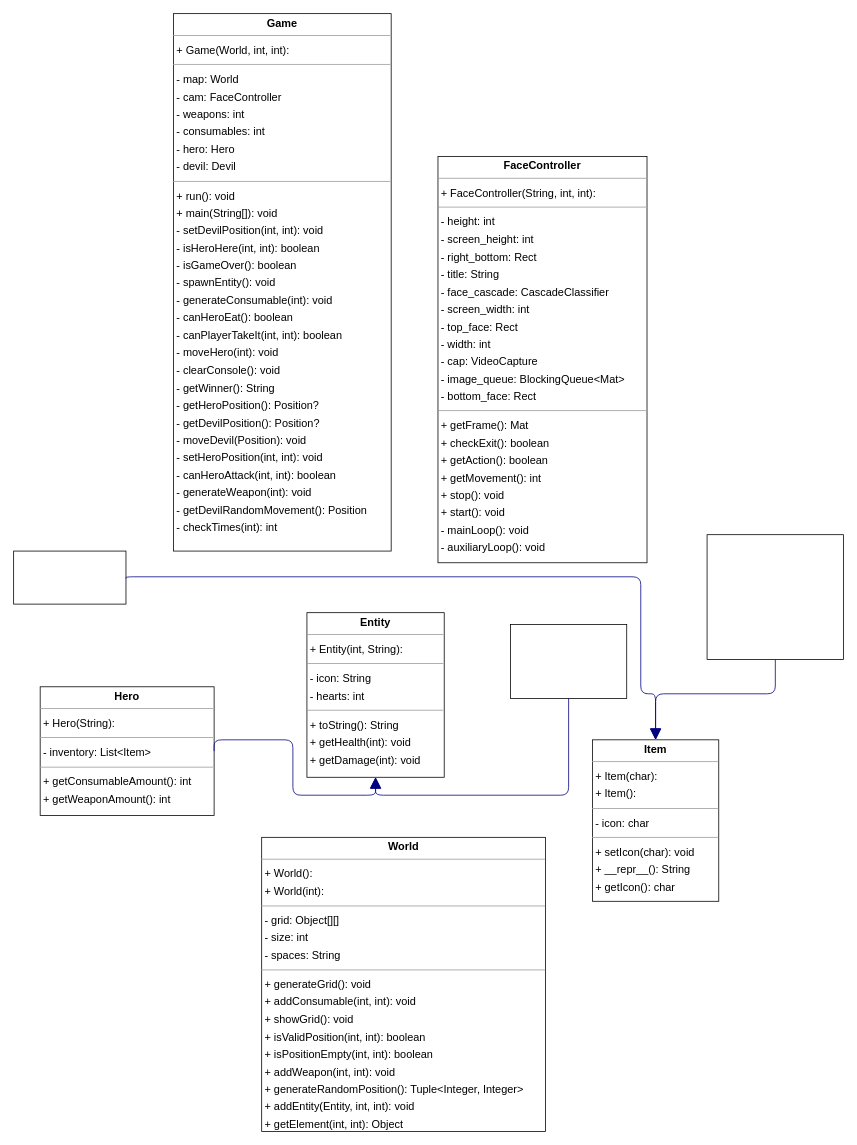
Some shapes in this 857 by 1145 pixel diagram are drawn without their labels. The shapes that lost their labels are listed below. From the top down, each one's centre as x and y in pixels, then its label:
At (69,577): "Consumable + Consumable(pizza):".
At (775,596): "Weapon + Weapon(): - damage: int + setDamage(int): void + getDamage(): int".
At (568,661): "Devil + Devil(String): + __repr__(): String".
